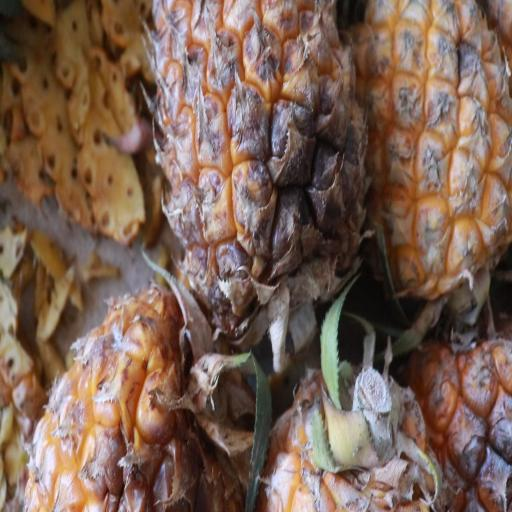Pineapple - v8 v1: (146, 6, 370, 332), (15, 266, 258, 512), (348, 4, 510, 300), (256, 338, 450, 512)
